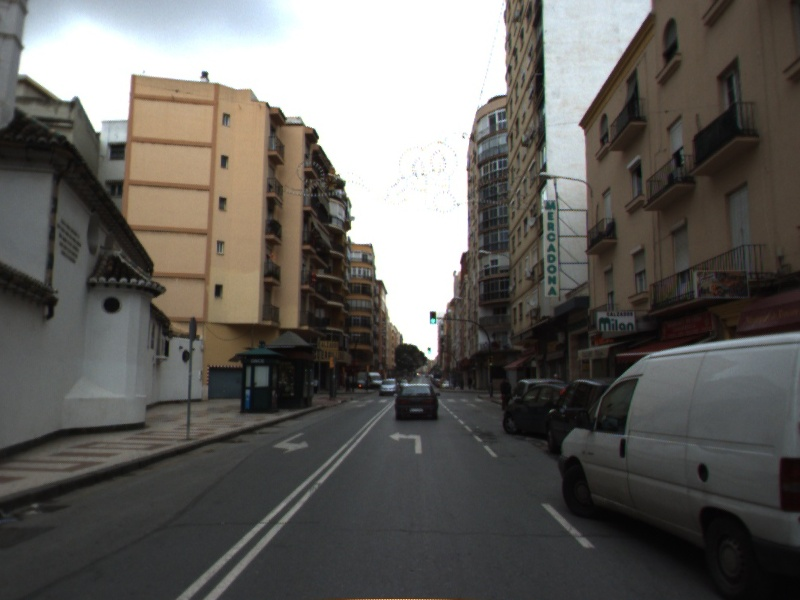LEFT: (388, 430, 423, 455)
